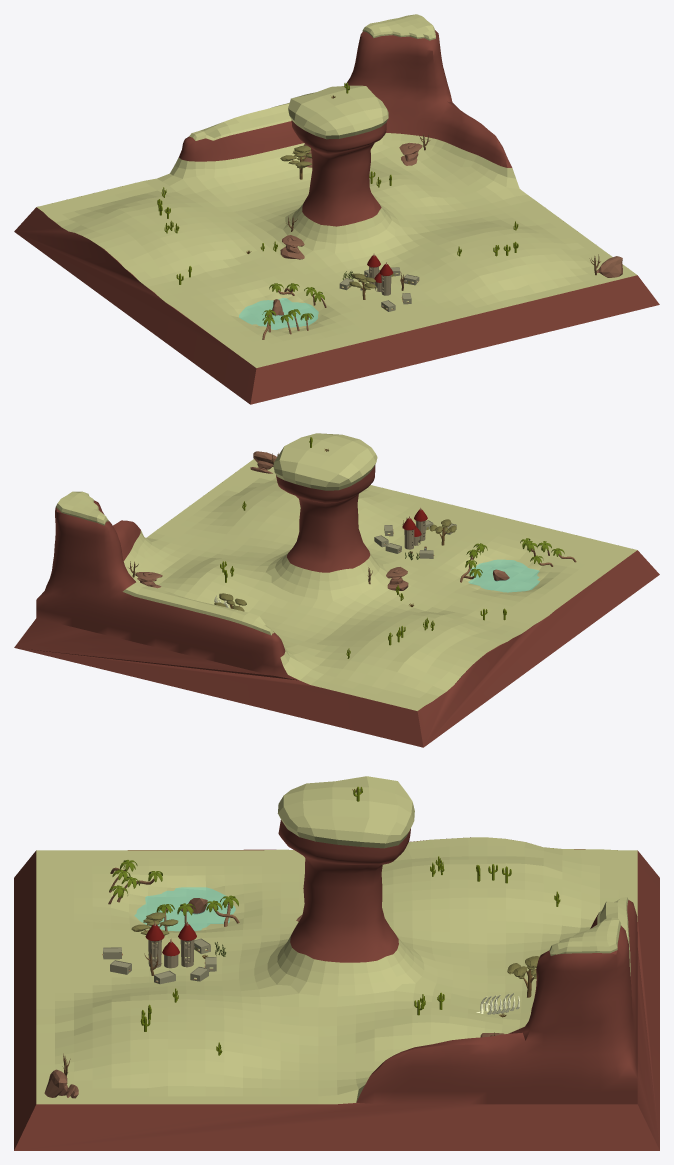
Rendered from desert.glb.
3 renders of one model, top to bottom at view 1: azimuth 30°, elevation 25°; view 2: azimuth 150°, elevation 25°; view 3: azimuth 270°, elevation 25°, orthographic. The views are drawn at different scales.
Visible parts, largest first — view 1: Cube.003_0, Cube_0, _stm_water_, Cylinder_114; view 2: Cube.003_0, Cube_0, _stm_water_, Cylinder_114; view 3: Cube.003_0, Cube_0, _stm_water_, Cylinder_114, Icosphere_013.002, Icosphere_025.001.
Boxes of the visible parts, left/top/right/bottom form: Cube.003_0: left=36, top=14, right=637, bottom=367; Cube_0: left=14, top=30, right=659, bottom=404; _stm_water_: left=239, top=298, right=318, bottom=329; Cylinder_114: left=367, top=253, right=393, bottom=295; Cube.003_0: left=56, top=433, right=637, bottom=710; Cube_0: left=14, top=465, right=659, bottom=747; _stm_water_: left=468, top=560, right=539, bottom=592; Cylinder_114: left=402, top=507, right=427, bottom=549; Cube.003_0: left=36, top=776, right=637, bottom=1104; Cube_0: left=14, top=820, right=659, bottom=1150; _stm_water_: left=134, top=887, right=235, bottom=930; Cylinder_114: left=145, top=922, right=196, bottom=968; Icosphere_013.002: left=44, top=1069, right=78, bottom=1098; Icosphere_025.001: left=507, top=956, right=539, bottom=997.
Bounding box in the file's own units: 502 × 205 × 502.
